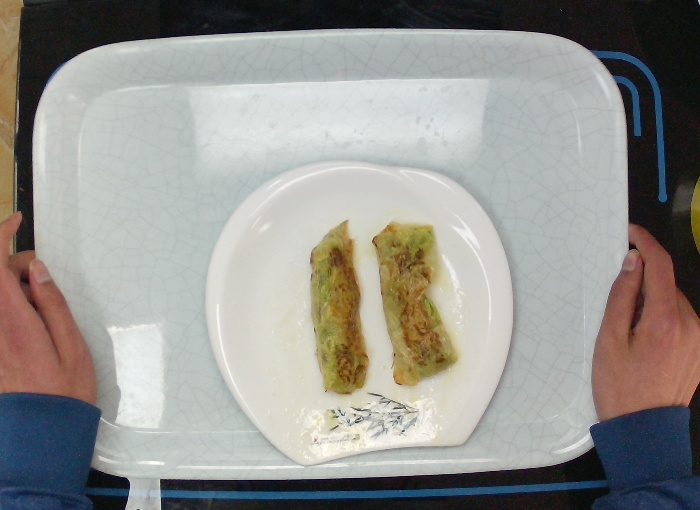JYsf-Mian_Pan: (198, 154, 518, 468)
